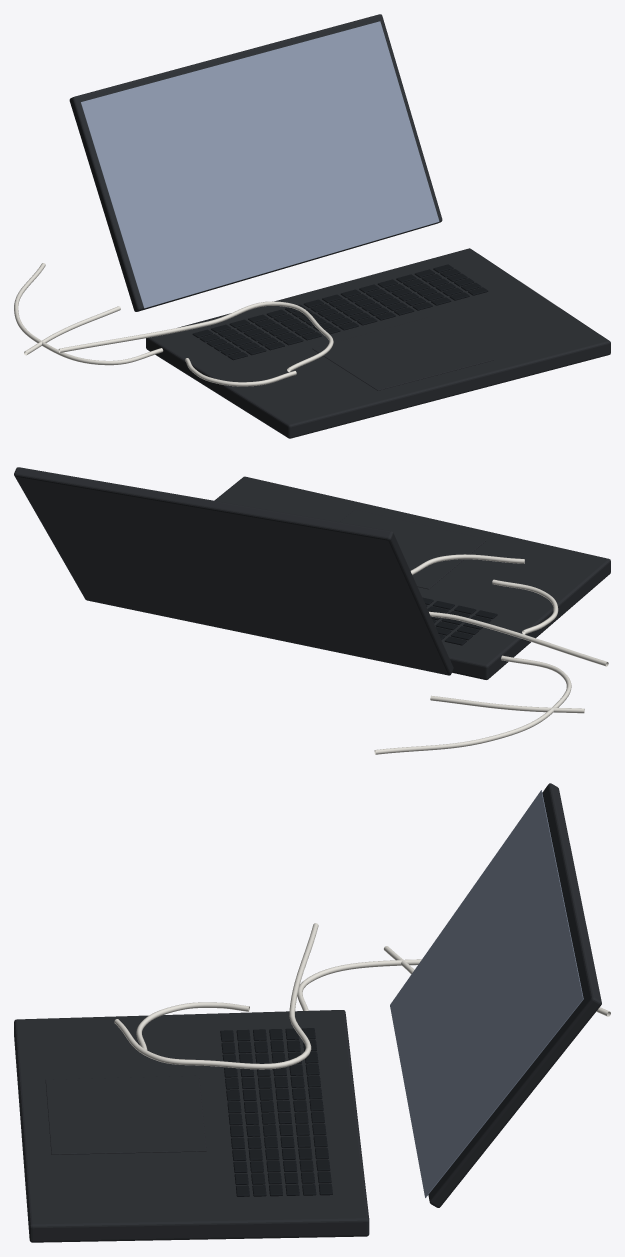
The picture shows the model from 3 angles, top to bottom: view 1: azimuth 30°, elevation 25°; view 2: azimuth 150°, elevation 25°; view 3: azimuth 270°, elevation 25°; orthographic projection. The views are drawn at different scales.
Parts seen in each view (by area): view 1: source_laptop_display_neutral_surface, source_laptop_base_shell, source_laptop_trackpad, source_laptop_display_lid, observed_white_cable_crossing_keyboard, observed_white_cord_loop_on_table, observed_white_cable_desktop_slack; view 2: source_laptop_display_lid, source_laptop_base_shell, source_laptop_trackpad, observed_white_cable_crossing_keyboard, observed_white_cord_loop_on_table, observed_adapter_to_laptop_white_wire, observed_white_cable_desktop_slack; view 3: source_laptop_base_shell, source_laptop_display_neutral_surface, source_laptop_trackpad, source_laptop_display_lid, observed_white_cable_crossing_keyboard, observed_white_cord_loop_on_table, observed_white_cable_desktop_slack.
Part boxes in pixels (box(x1,y1,x2,y2)): source_laptop_display_neutral_surface: box(81, 21, 439, 308); source_laptop_base_shell: box(146, 248, 610, 438); source_laptop_trackpad: box(312, 317, 493, 390); source_laptop_display_lid: box(69, 14, 442, 311); observed_white_cable_crossing_keyboard: box(58, 301, 333, 372); observed_white_cord_loop_on_table: box(14, 263, 163, 365); observed_white_cable_desktop_slack: box(185, 358, 296, 386); source_laptop_display_lid: box(14, 467, 453, 675); source_laptop_base_shell: box(214, 476, 610, 679); source_laptop_trackpad: box(340, 509, 487, 589); observed_white_cable_crossing_keyboard: box(410, 554, 608, 666); observed_white_cord_loop_on_table: box(374, 655, 571, 754); observed_adapter_to_laptop_white_wire: box(430, 695, 584, 713); observed_white_cable_desktop_slack: box(492, 579, 558, 634); source_laptop_base_shell: box(14, 1010, 369, 1242); source_laptop_display_neutral_surface: box(390, 790, 583, 1197); source_laptop_trackpad: box(45, 1075, 206, 1154); source_laptop_display_lid: box(428, 783, 601, 1207); observed_white_cable_crossing_keyboard: box(114, 923, 318, 1069); observed_white_cord_loop_on_table: box(297, 959, 610, 1016); observed_white_cable_desktop_slack: box(136, 1002, 249, 1049).
Bounding box in the file's own units: 0.4711 × 0.1931 × 0.4204.
